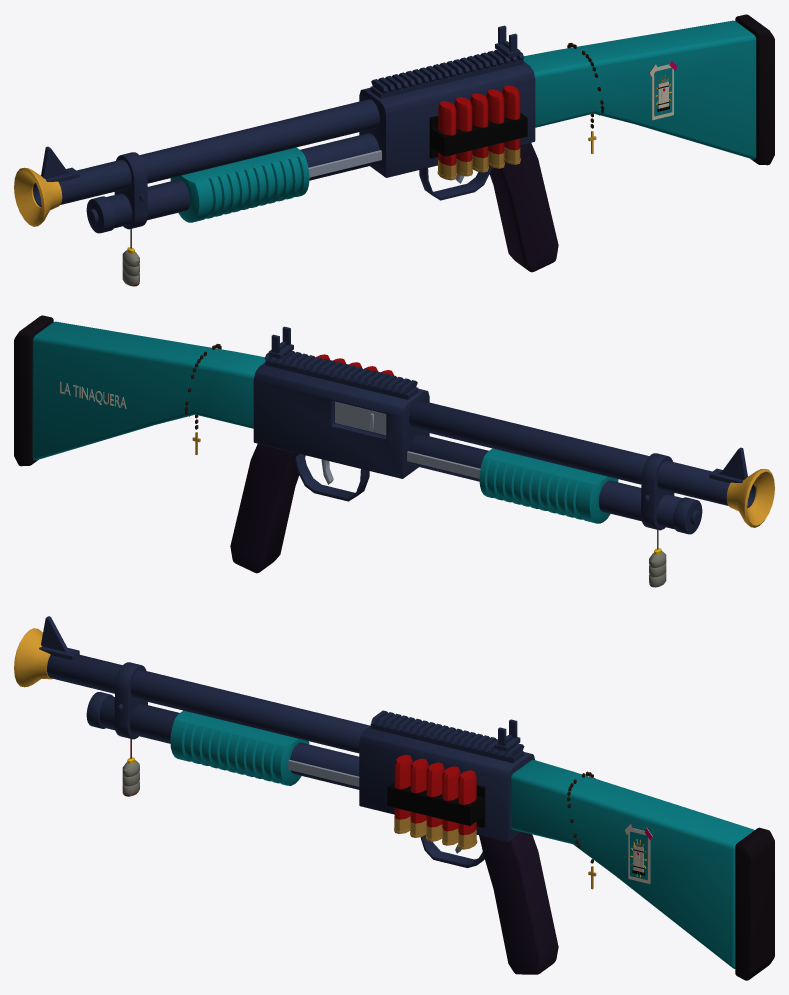
File: la_tinaquera.glb
3 renders of one model, top to bottom at view 1: azimuth 30°, elevation 25°; view 2: azimuth 150°, elevation 25°; view 3: azimuth 330°, elevation 25°, orthographic.
Visible parts, largest first — view 1: la_tinaquera; view 2: la_tinaquera; view 3: la_tinaquera.
Boxes of the visible parts, x1,y1,x2,y2 form: la_tinaquera: [14, 14, 774, 286]; la_tinaquera: [14, 315, 774, 587]; la_tinaquera: [14, 616, 774, 980].
Size of the model in its own units: 0.8881 by 0.2769 by 0.0918.
